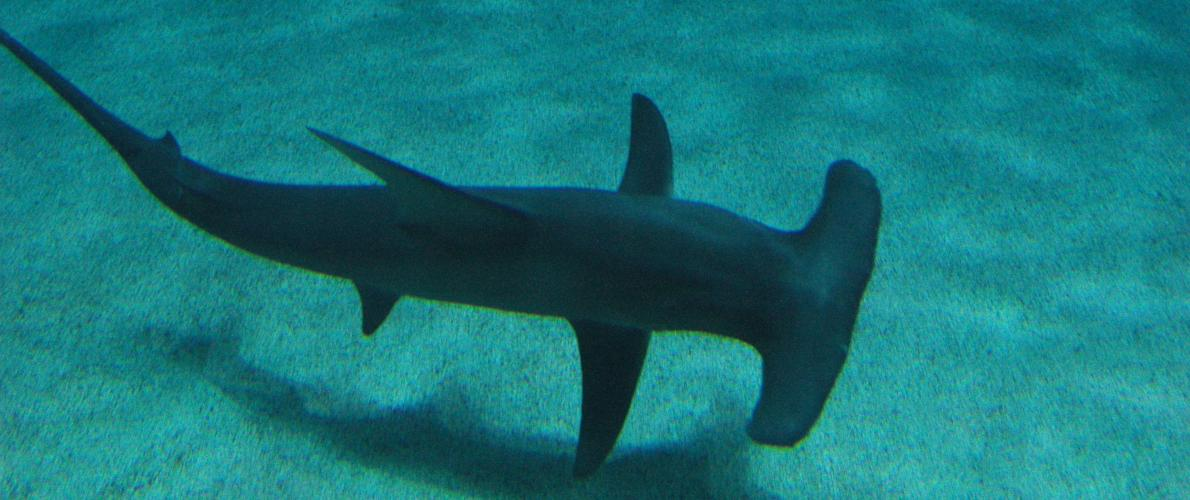Hammer: (1, 1, 893, 499)
